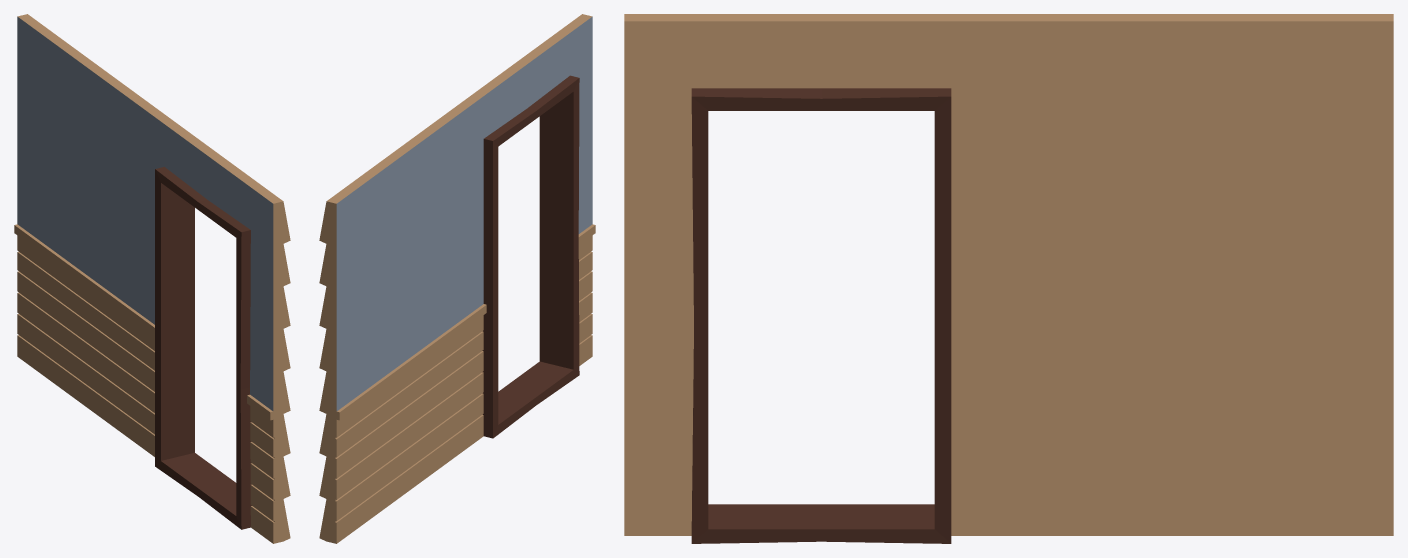
File: Wall Door E-col.glb
3 renders of one model, left to right at view 1: azimuth 30°, elevation 25°; view 2: azimuth 150°, elevation 25°; view 3: azimuth 270°, elevation 25°, orthographic. The views are drawn at different scales.
Parts seen in each view (by area): view 1: Wall Door E-col.001; view 2: Wall Door E-col.001; view 3: Wall Door E-col.001.
Part boxes in pixels (x1=…): Wall Door E-col.001: x1=14, y1=14, x2=290, y2=543; Wall Door E-col.001: x1=319, y1=14, x2=595, y2=543; Wall Door E-col.001: x1=624, y1=14, x2=1393, y2=543.
Bounding box in the file's own units: 0.2339 × 2.2 × 3.
